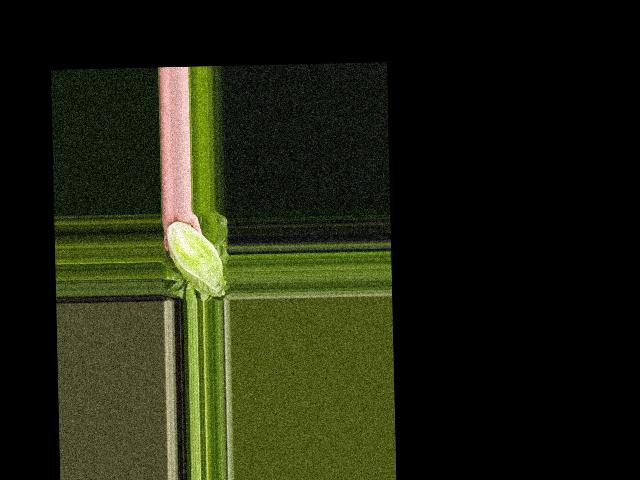lettuce: (164, 219, 225, 298)
